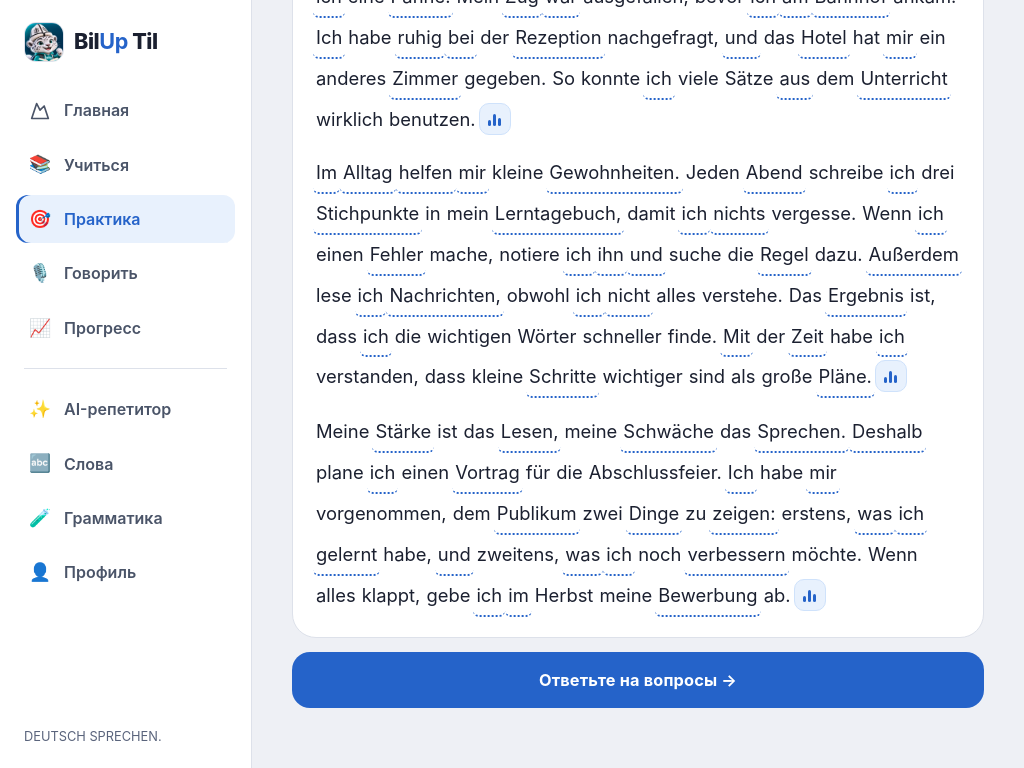
it: reading and listening flows › ru: the reading shows its text and questions; answering one gives feedback and no error is logged
Later steps or results of the test are not shown.
(page scrolled)
Click the button "Ответьте на вопросы →".
click(638, 680)  # box [292, 652, 984, 708]
(page scrolled)
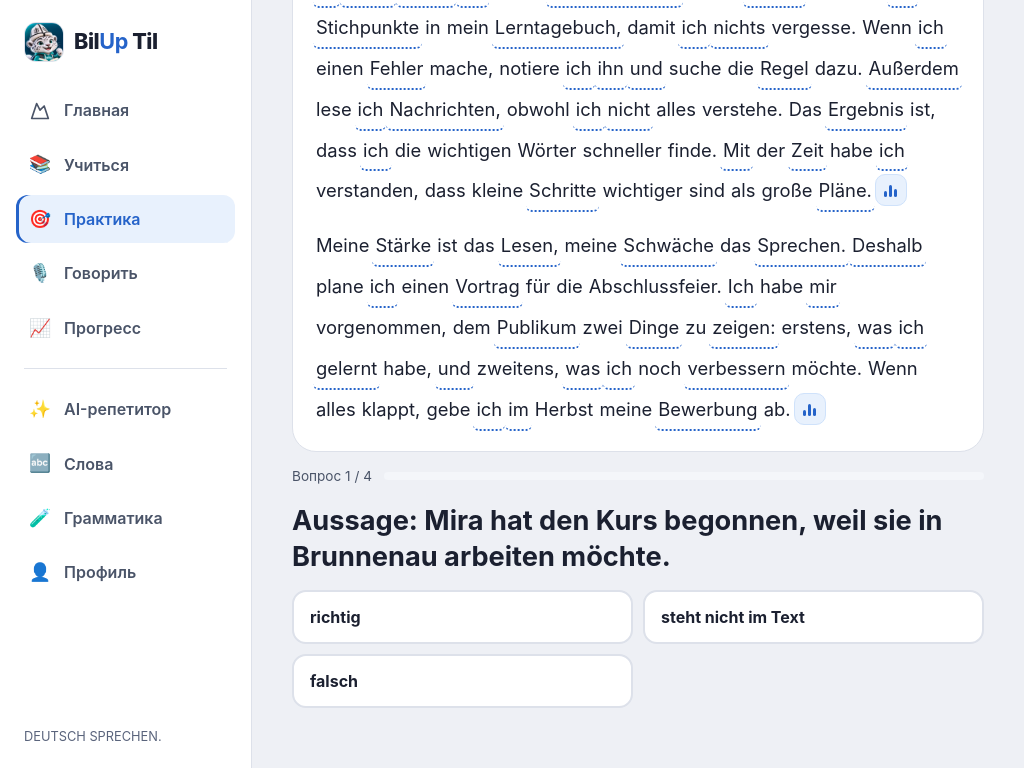
Result: the text "Aussage: Mira hat den Kurs begonnen, weil sie in Brunnenau arbeiten möchte." is shown at [292, 503, 984, 576]
Result: the button "falsch" is shown at [292, 654, 633, 708]
